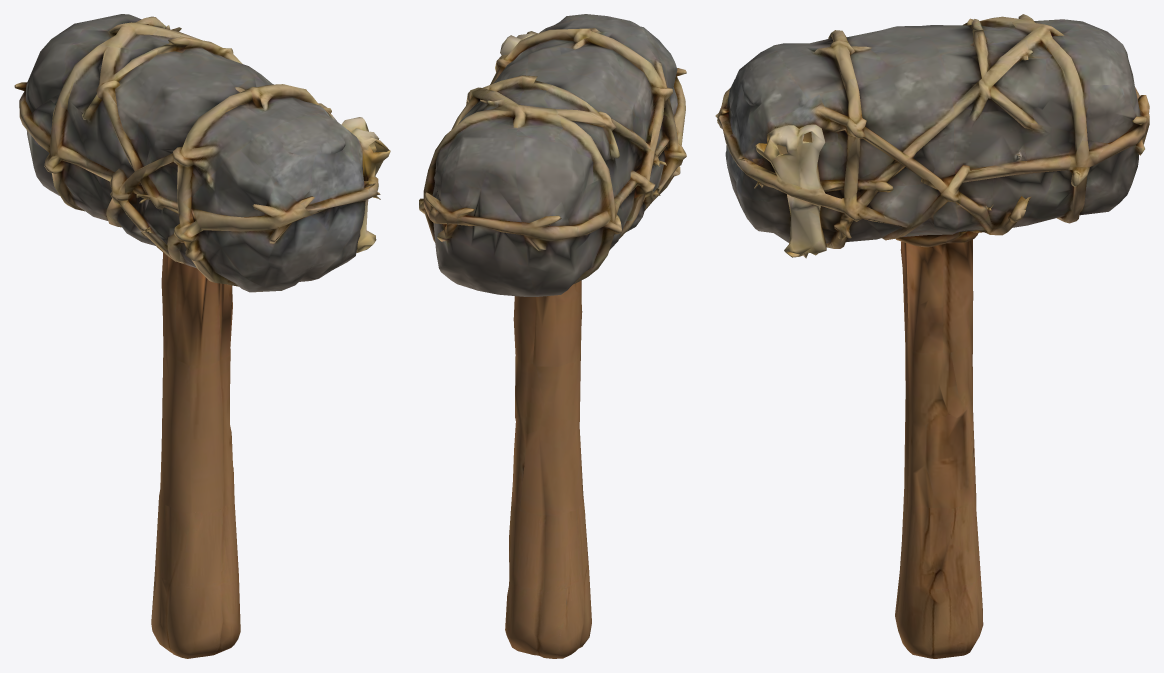
The model's file is martillo_piedra.glb.
The picture shows the model from 3 angles, left to right: view 1: azimuth 30°, elevation 25°; view 2: azimuth 150°, elevation 25°; view 3: azimuth 270°, elevation 25°; orthographic projection. The views are drawn at different scales.
Parts seen in each view (by area): view 1: tripo_node_9cc6795a-4274-4539-94b5-62127faa2e10; view 2: tripo_node_9cc6795a-4274-4539-94b5-62127faa2e10; view 3: tripo_node_9cc6795a-4274-4539-94b5-62127faa2e10.
Boxes of the visible parts, x1,y1,x2,y2 form: tripo_node_9cc6795a-4274-4539-94b5-62127faa2e10: (14,14,390,658); tripo_node_9cc6795a-4274-4539-94b5-62127faa2e10: (419,14,686,658); tripo_node_9cc6795a-4274-4539-94b5-62127faa2e10: (715,14,1149,658).
Size of the model in its own units: 0.39 by 0.9982 by 0.639.
1 material, 1 textured.
